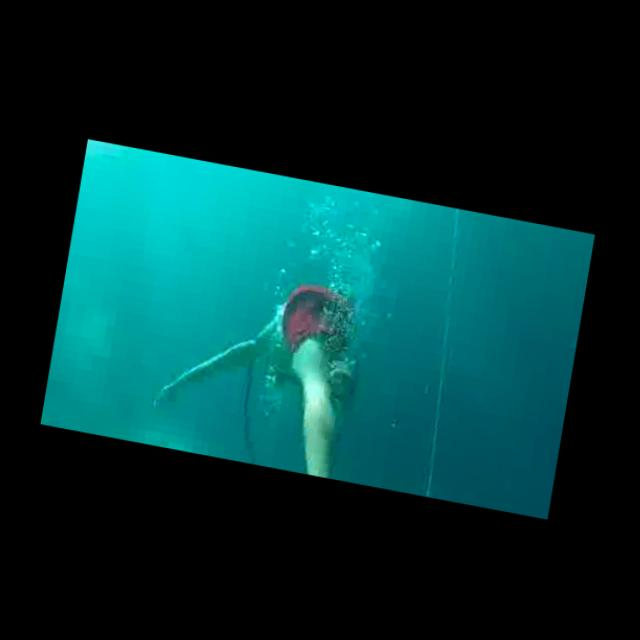human: (142, 251, 374, 479)
